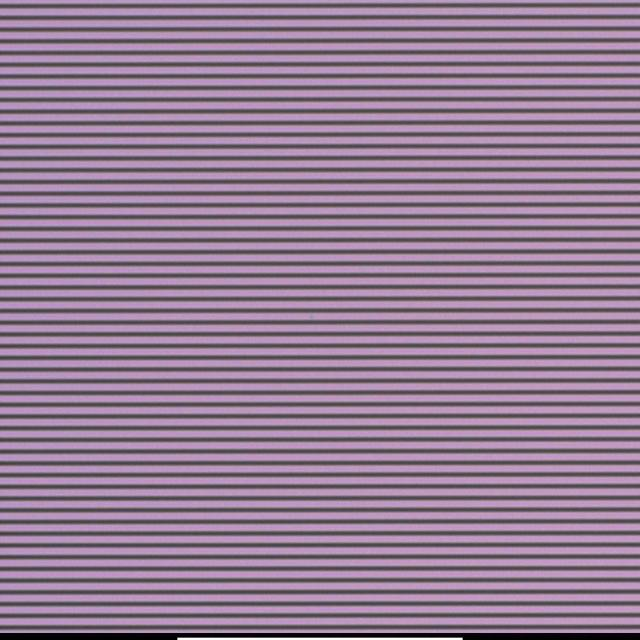nonvisual: (298, 312, 318, 328)
